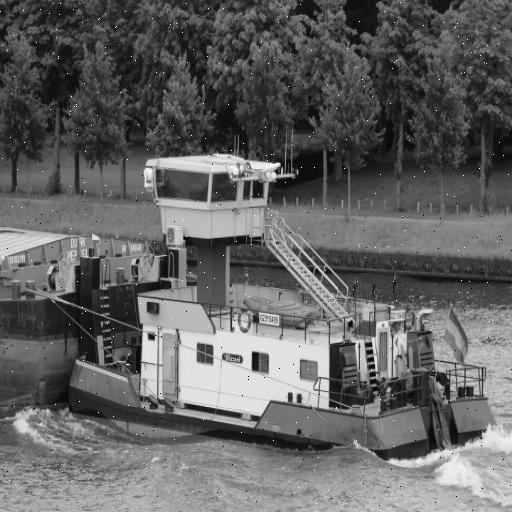tugboat: (66, 148, 502, 473)
